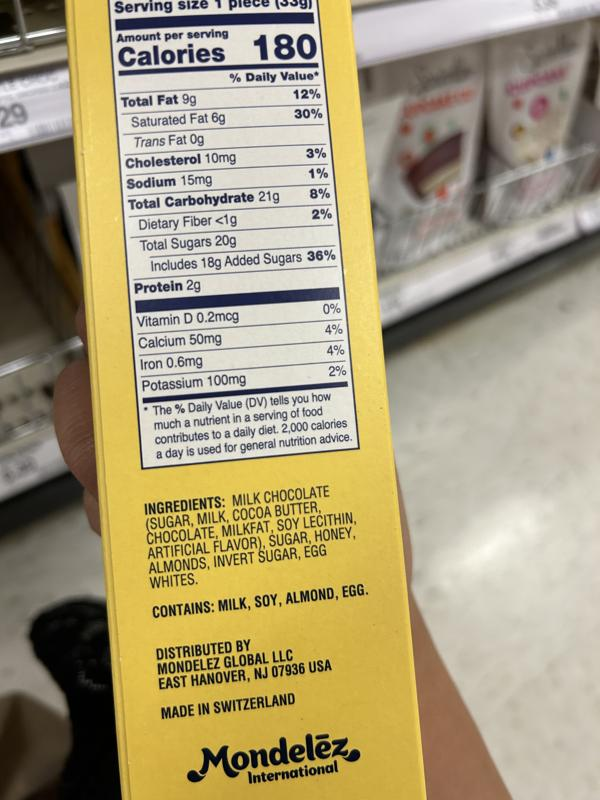ingredients: (142, 483, 358, 592)
